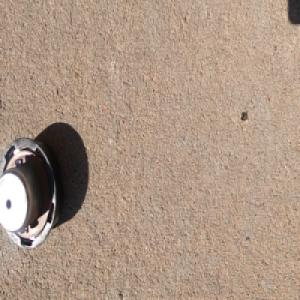FuelCap: (0, 133, 64, 252)
